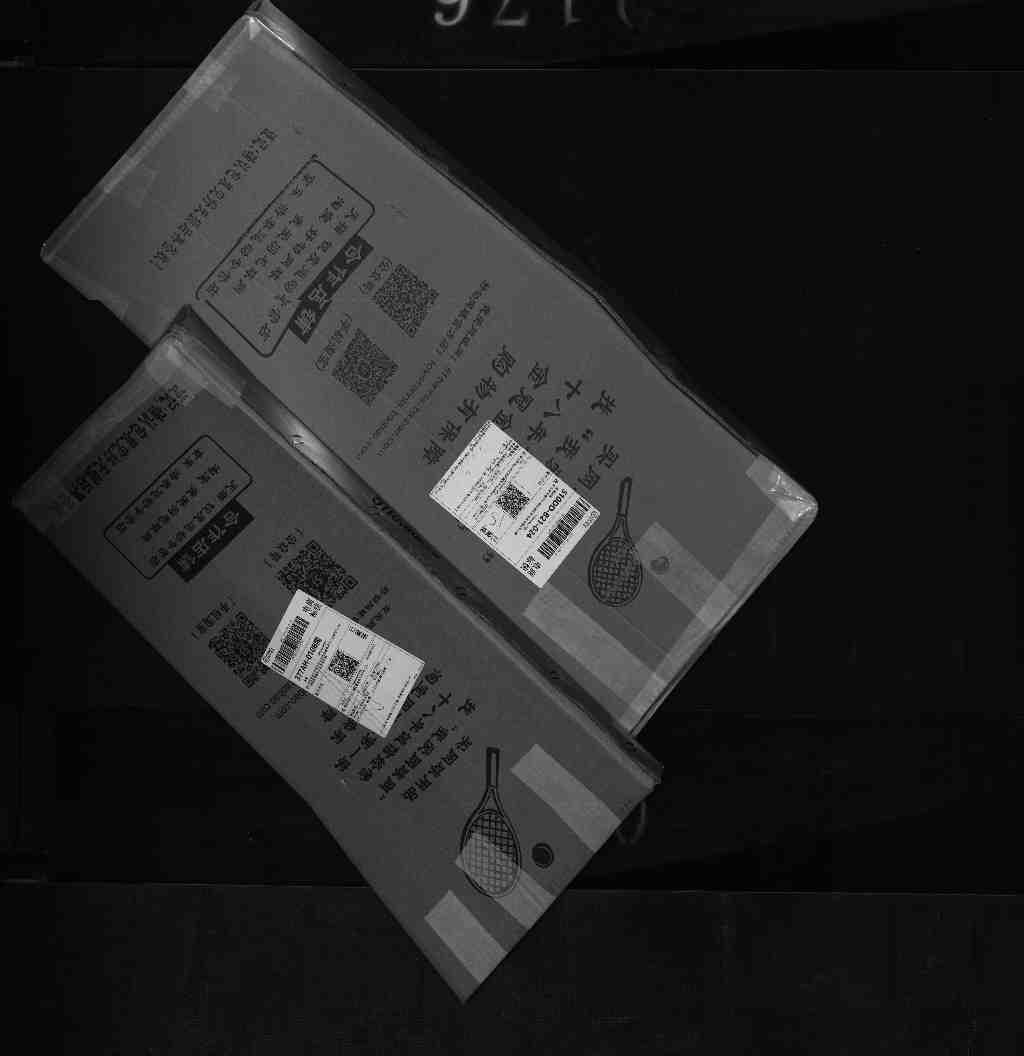box: (25, 9, 821, 724), (18, 316, 659, 1011)
